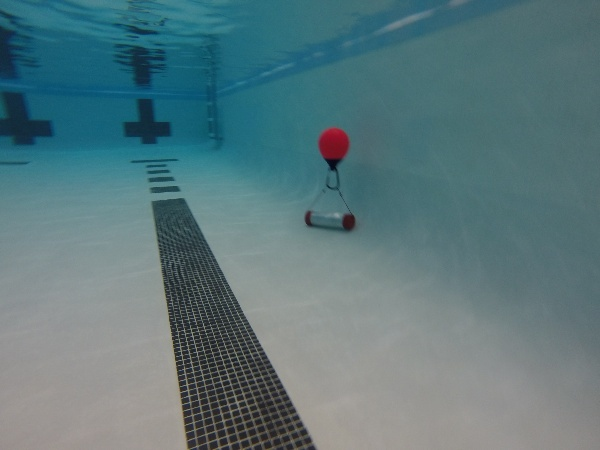buoy_red: (313, 123, 353, 172)
